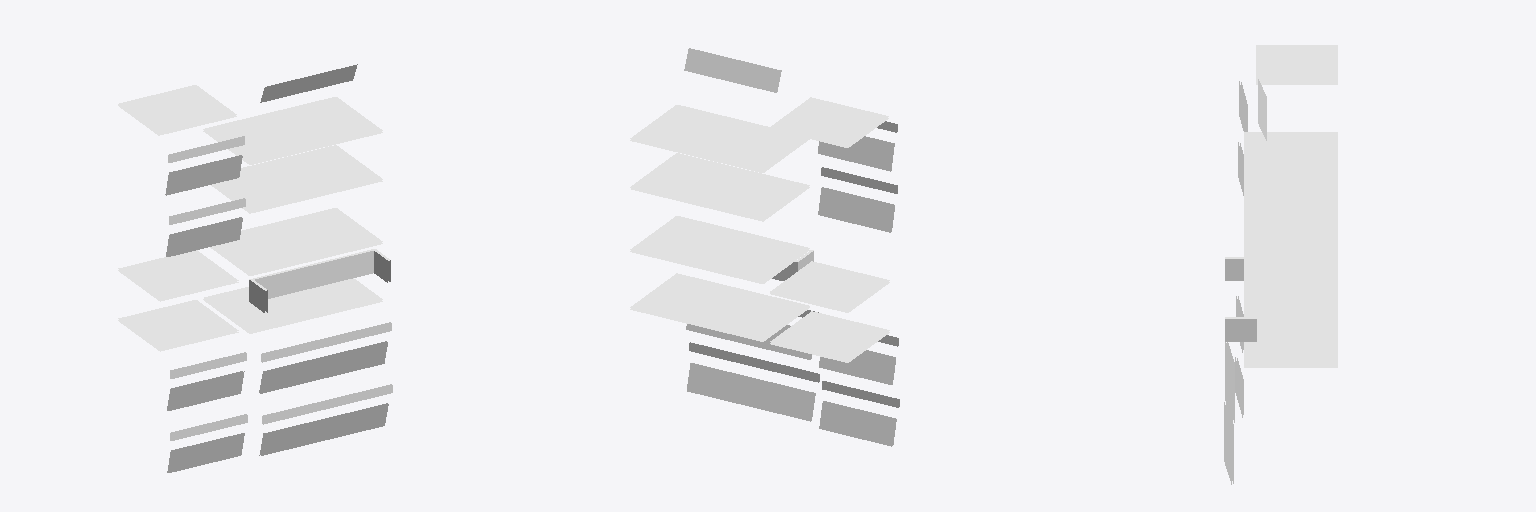
Rendered from fridge_neg1_2.obj.
The picture shows the model from 3 angles: view 1: azimuth 30°, elevation 25°; view 2: azimuth 150°, elevation 25°; view 3: azimuth 270°, elevation 25°; orthographic projection.
Bounding box in the file's own units: 45.05 × 70.02 × 20.85.